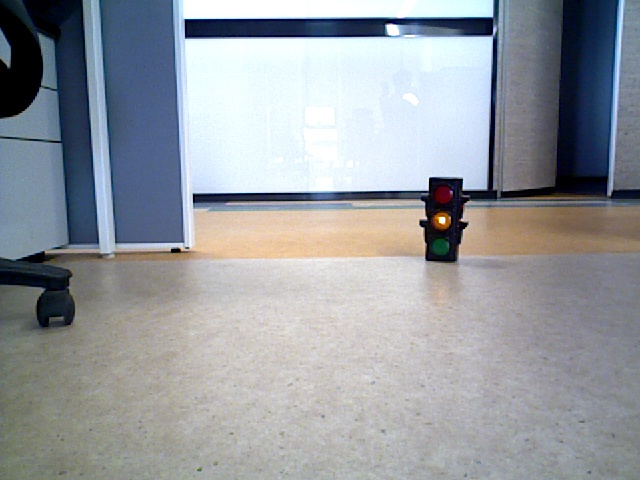yellow: (429, 181, 458, 258)
